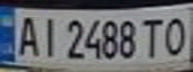2: (60, 15, 84, 60)
4: (81, 16, 103, 60)
8: (118, 16, 139, 60), (100, 16, 121, 60)
A: (12, 11, 42, 58)
I: (36, 14, 60, 58)
O: (160, 12, 190, 57)
T: (136, 15, 166, 60)
